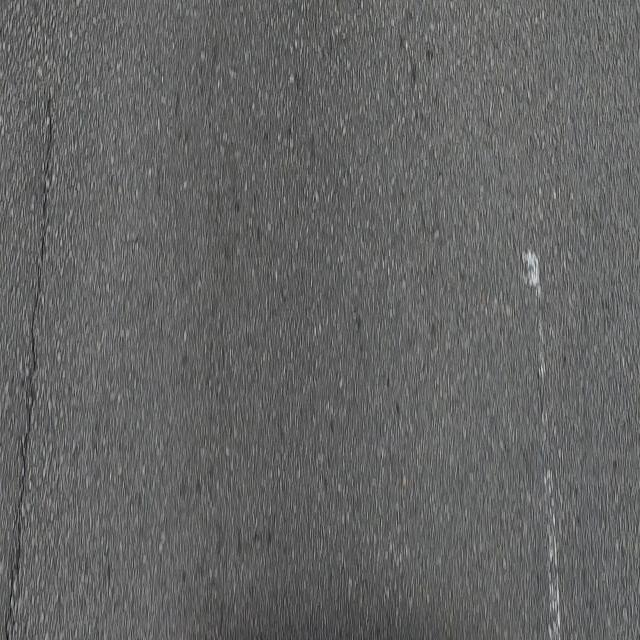Retak-Memanjang: (2, 72, 59, 637)
